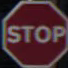Stop: (4, 3, 64, 58)
